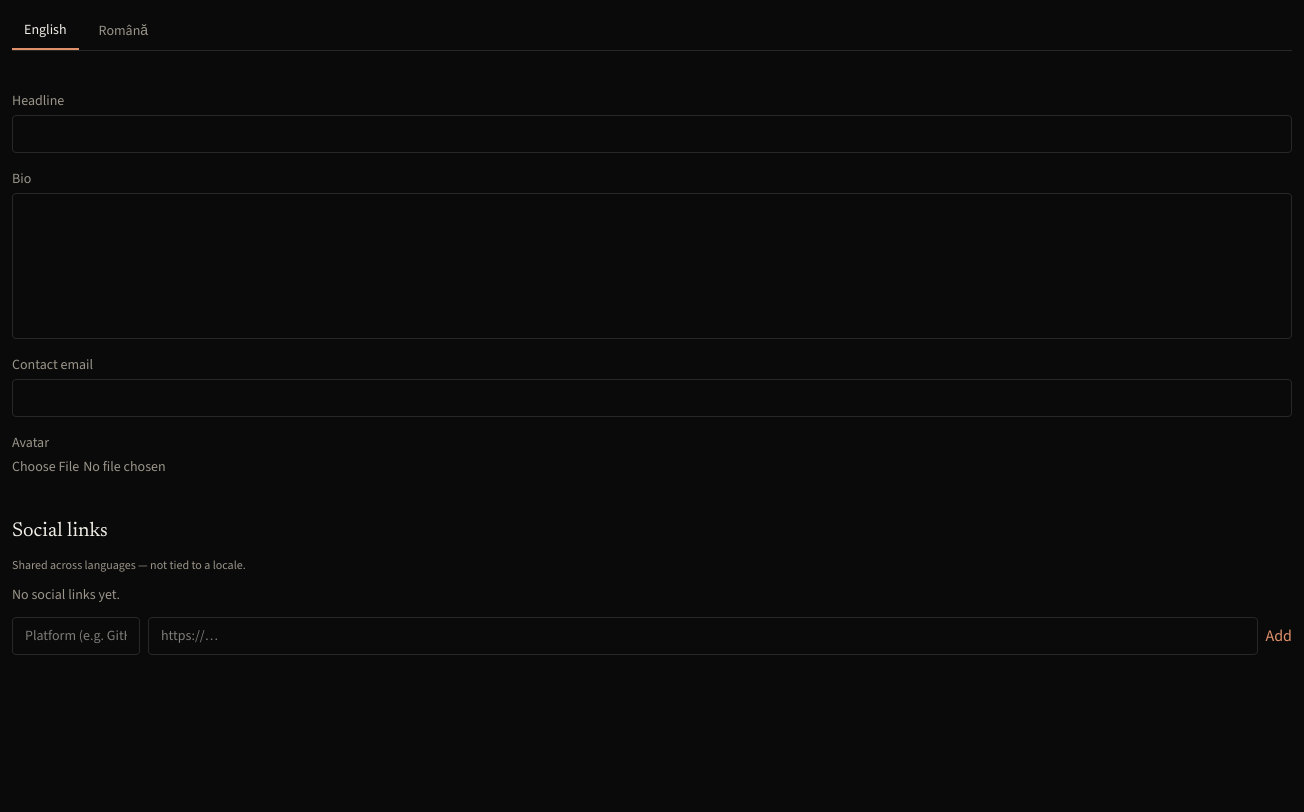
AboutForm › adds a social link only once both fields are filled, then clears the inputs
Click the button "Add".
click(1279, 636)  # box [1266,624,1292,648]
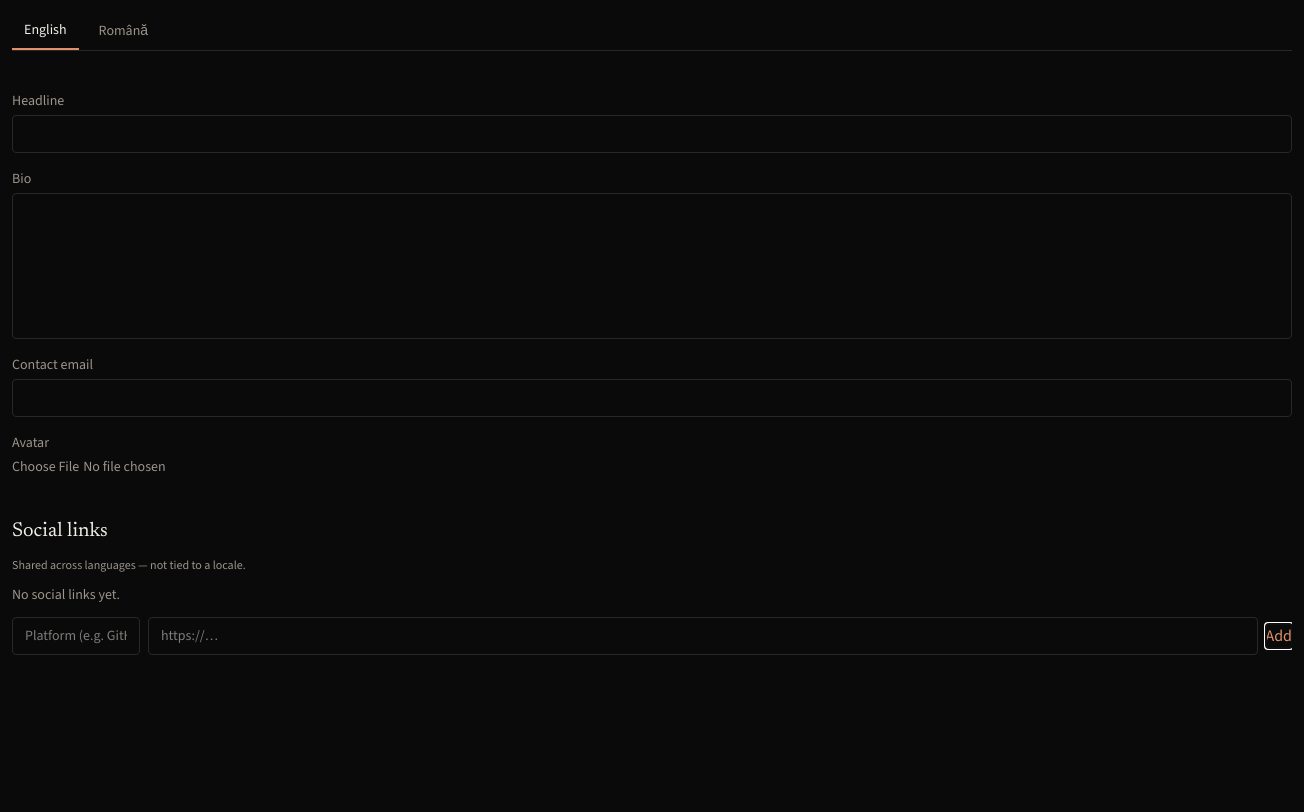
Type "GitHub" into the field named "New platform".
click(76, 636); type("GitHub")  # box [12,617,140,655]
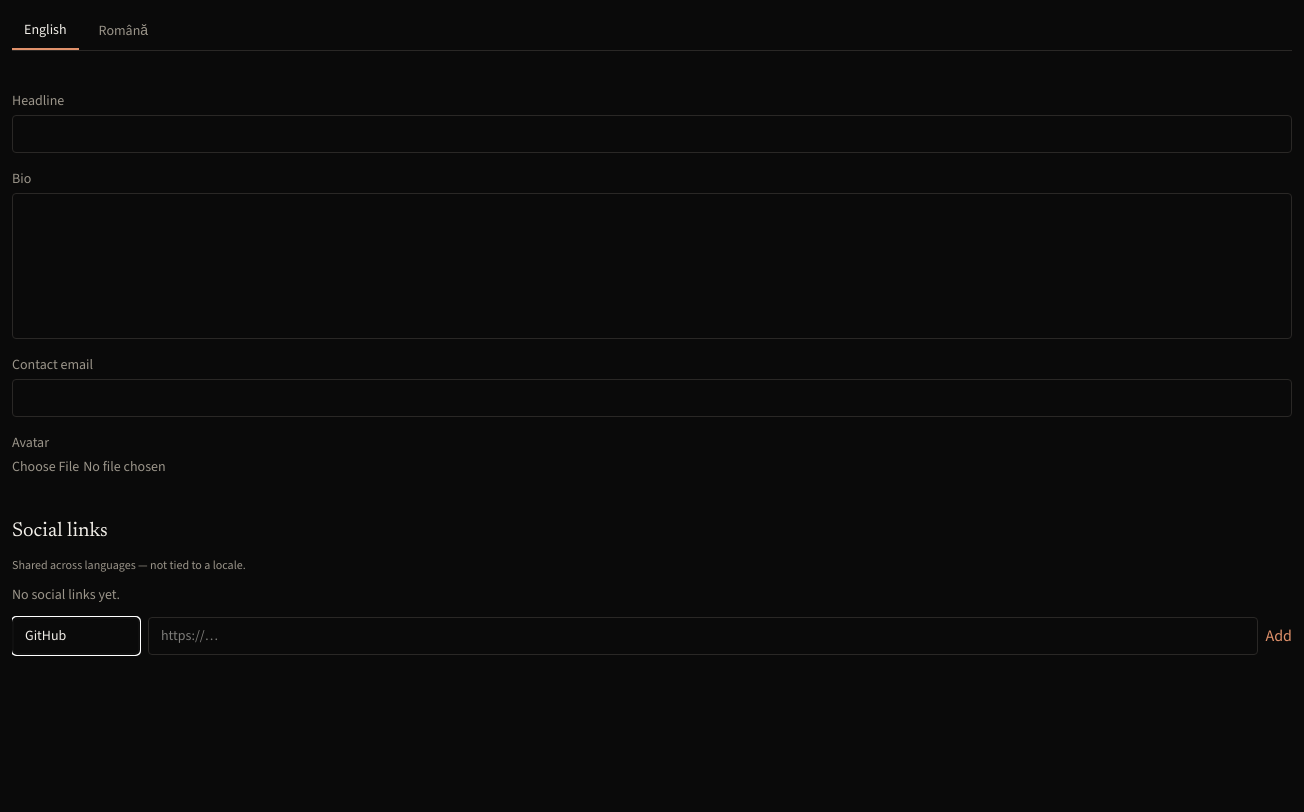
Type "https://github.com/me" into the field named "New URL".
click(703, 636); type("https://github.com/me")  # box [148,617,1258,655]
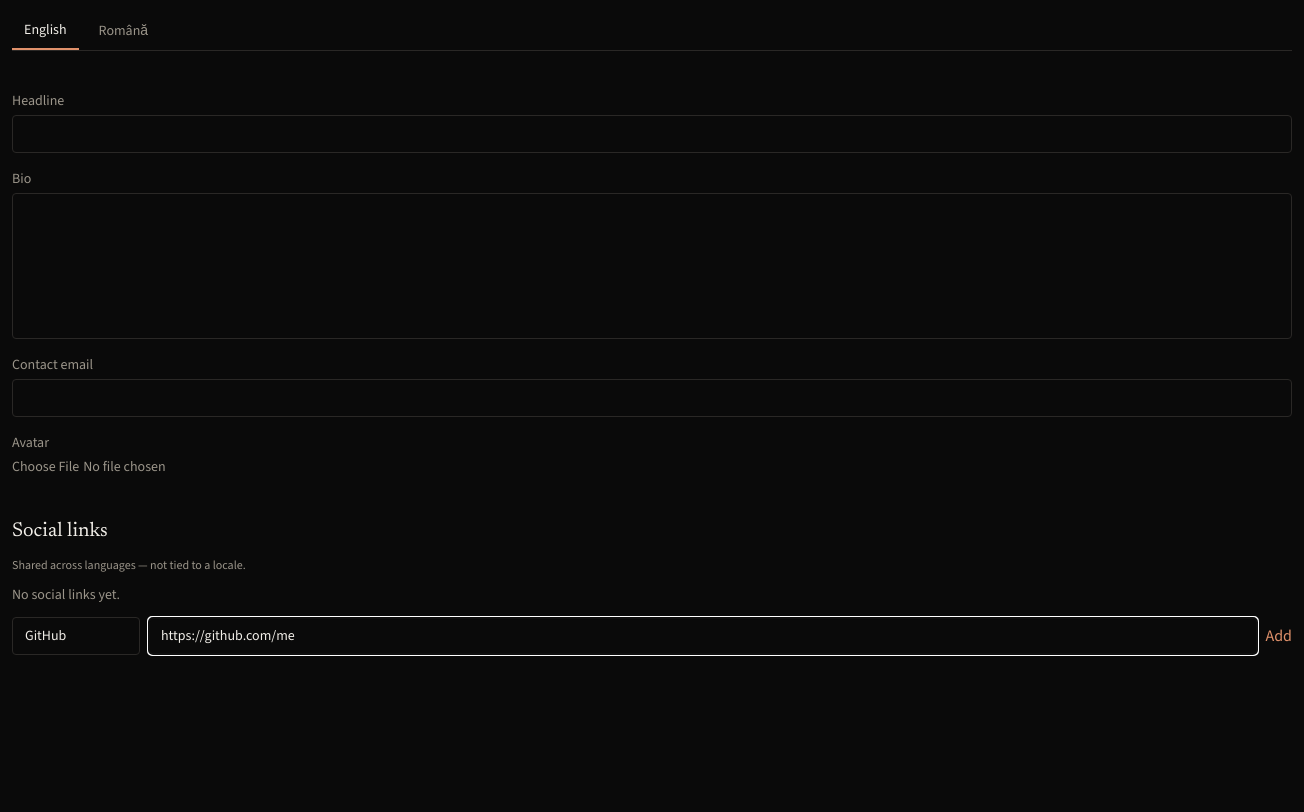
Click the button "Add".
click(1279, 636)  # box [1266,624,1292,648]
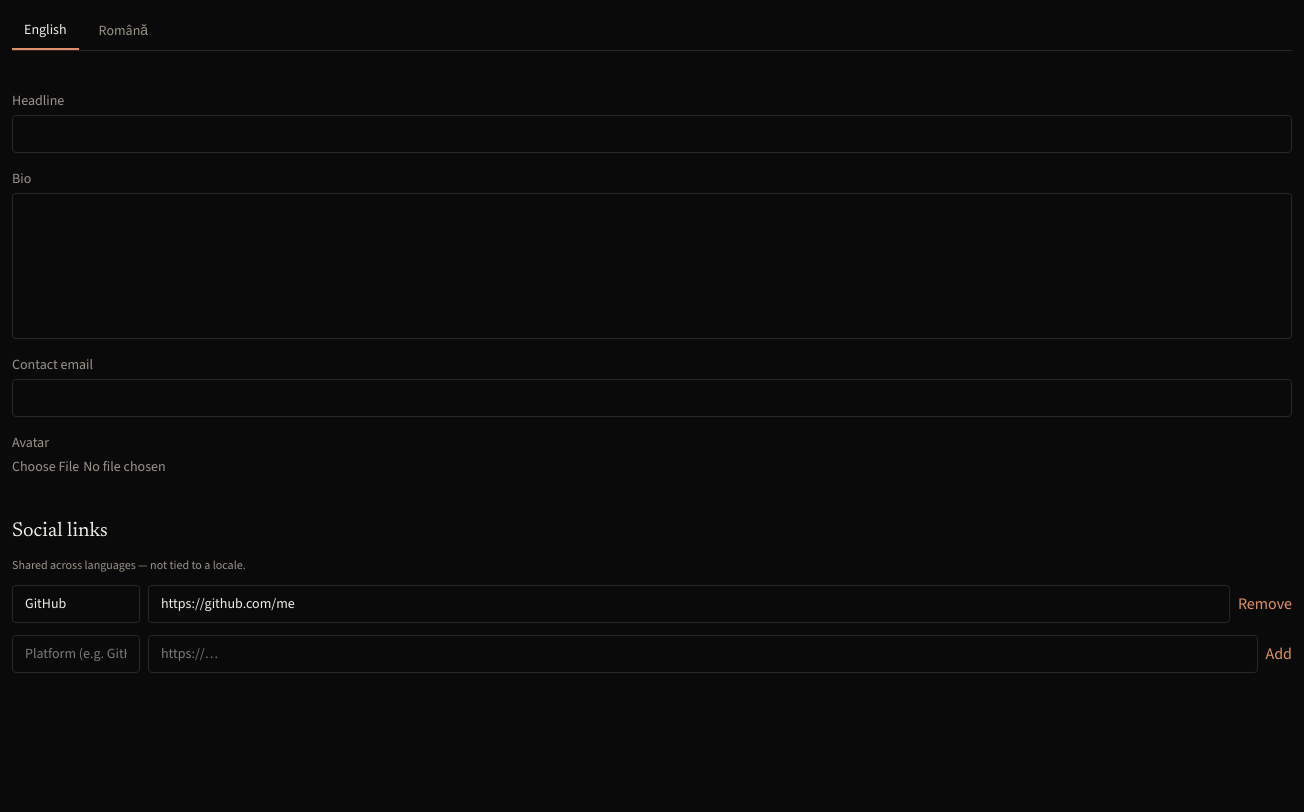
Check: the field showing "https://github.com/me" is shown, box [148,585,1230,623]
Check: the field named "New platform" is empty, box [12,635,140,673]
